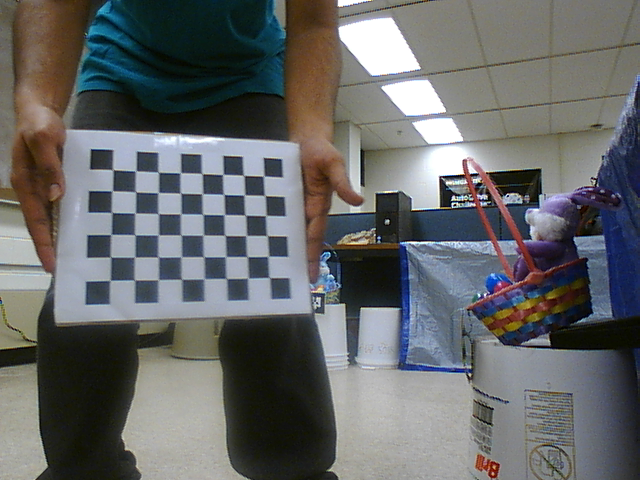bunny: (452, 152, 608, 339)
